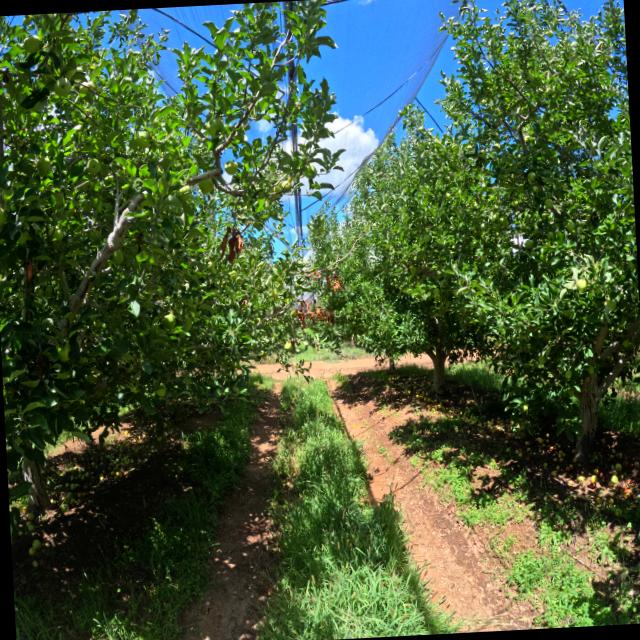-FireBlight-: (215, 222, 248, 264), (296, 295, 336, 328), (327, 273, 344, 294), (303, 268, 323, 284)
